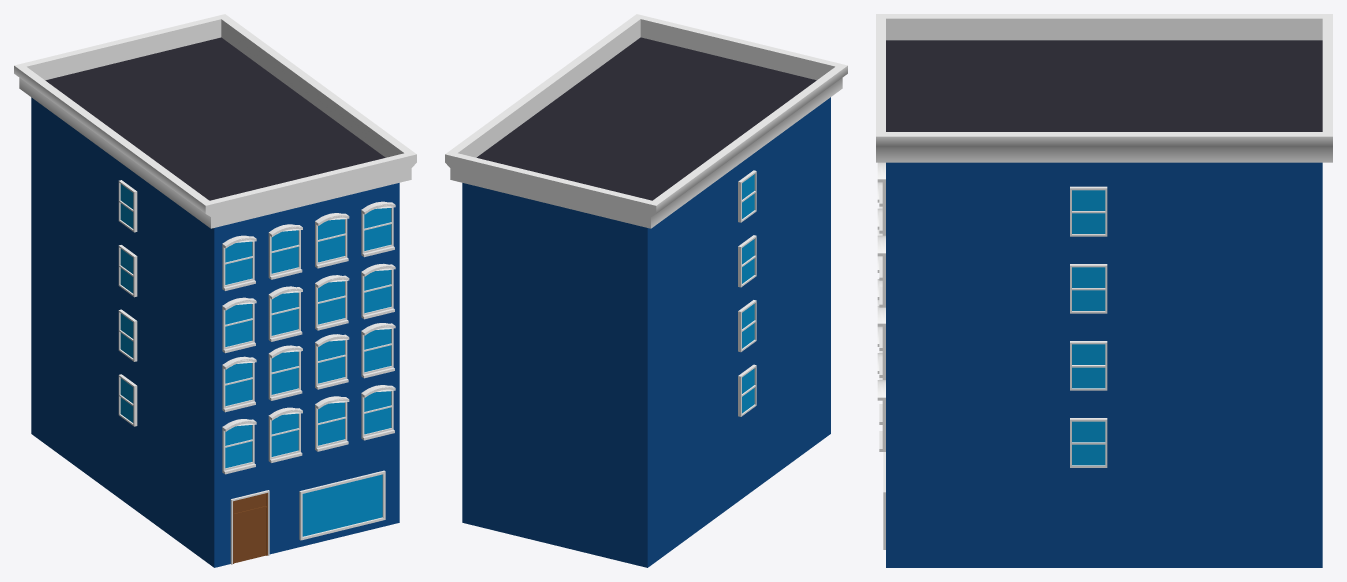
File: Building_12.fbx
The picture shows the model from 3 angles, left to right: view 1: azimuth 30°, elevation 25°; view 2: azimuth 150°, elevation 25°; view 3: azimuth 270°, elevation 25°; orthographic projection. The views are drawn at different scales.
Visible parts, largest first — view 1: B12; view 2: B12; view 3: B12.
Boxes of the visible parts, left/top/right/bottom form: B12: left=14, top=14, right=416, bottom=567; B12: left=445, top=14, right=847, bottom=567; B12: left=876, top=14, right=1332, bottom=567.
Size of the model in its own units: 13.25 by 22.08 by 20.83.
Materials: 1 (1 with a texture image).
